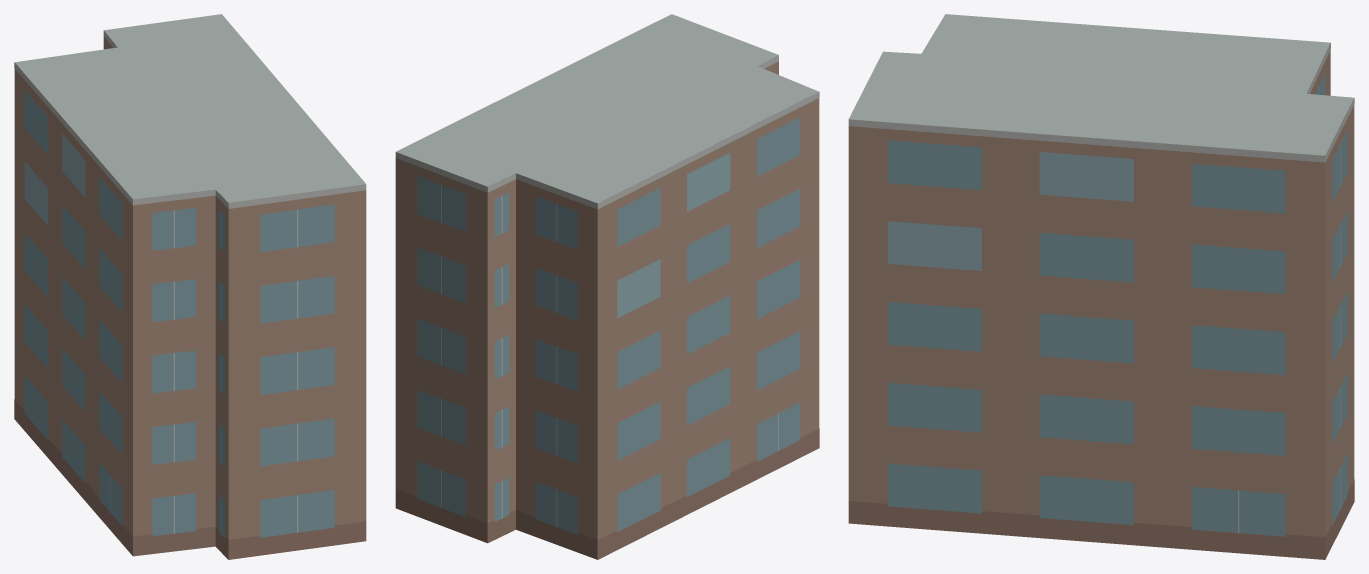
The model's file is survey-upis-32852627.glb.
The picture shows the model from 3 angles, left to right: view 1: azimuth 30°, elevation 25°; view 2: azimuth 150°, elevation 25°; view 3: azimuth 270°, elevation 25°; orthographic projection. The views are drawn at different scales.
Visible parts, largest first — view 1: survey-upis-32852627.tmp; view 2: survey-upis-32852627.tmp; view 3: survey-upis-32852627.tmp.
Part boxes in pixels (x1,y1,x2,y2): survey-upis-32852627.tmp: (14, 14, 366, 559); survey-upis-32852627.tmp: (395, 14, 819, 559); survey-upis-32852627.tmp: (848, 14, 1354, 559).
Size of the model in its own units: 10.96 by 14.55 by 16.52.
